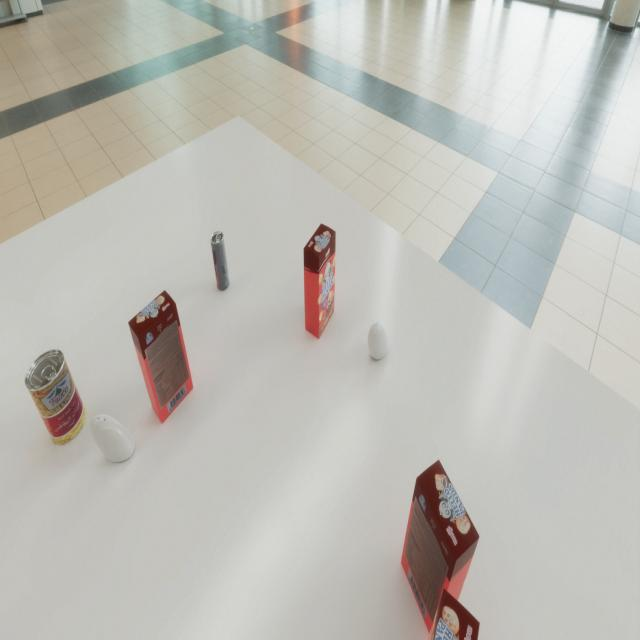HelloPanda: (401, 460, 479, 638), (128, 290, 193, 424), (304, 223, 336, 339)
Potato_sticks: (25, 349, 86, 446)
Rita_zero_sugar: (210, 231, 230, 291)
Salt: (90, 415, 135, 462), (367, 321, 389, 360)
